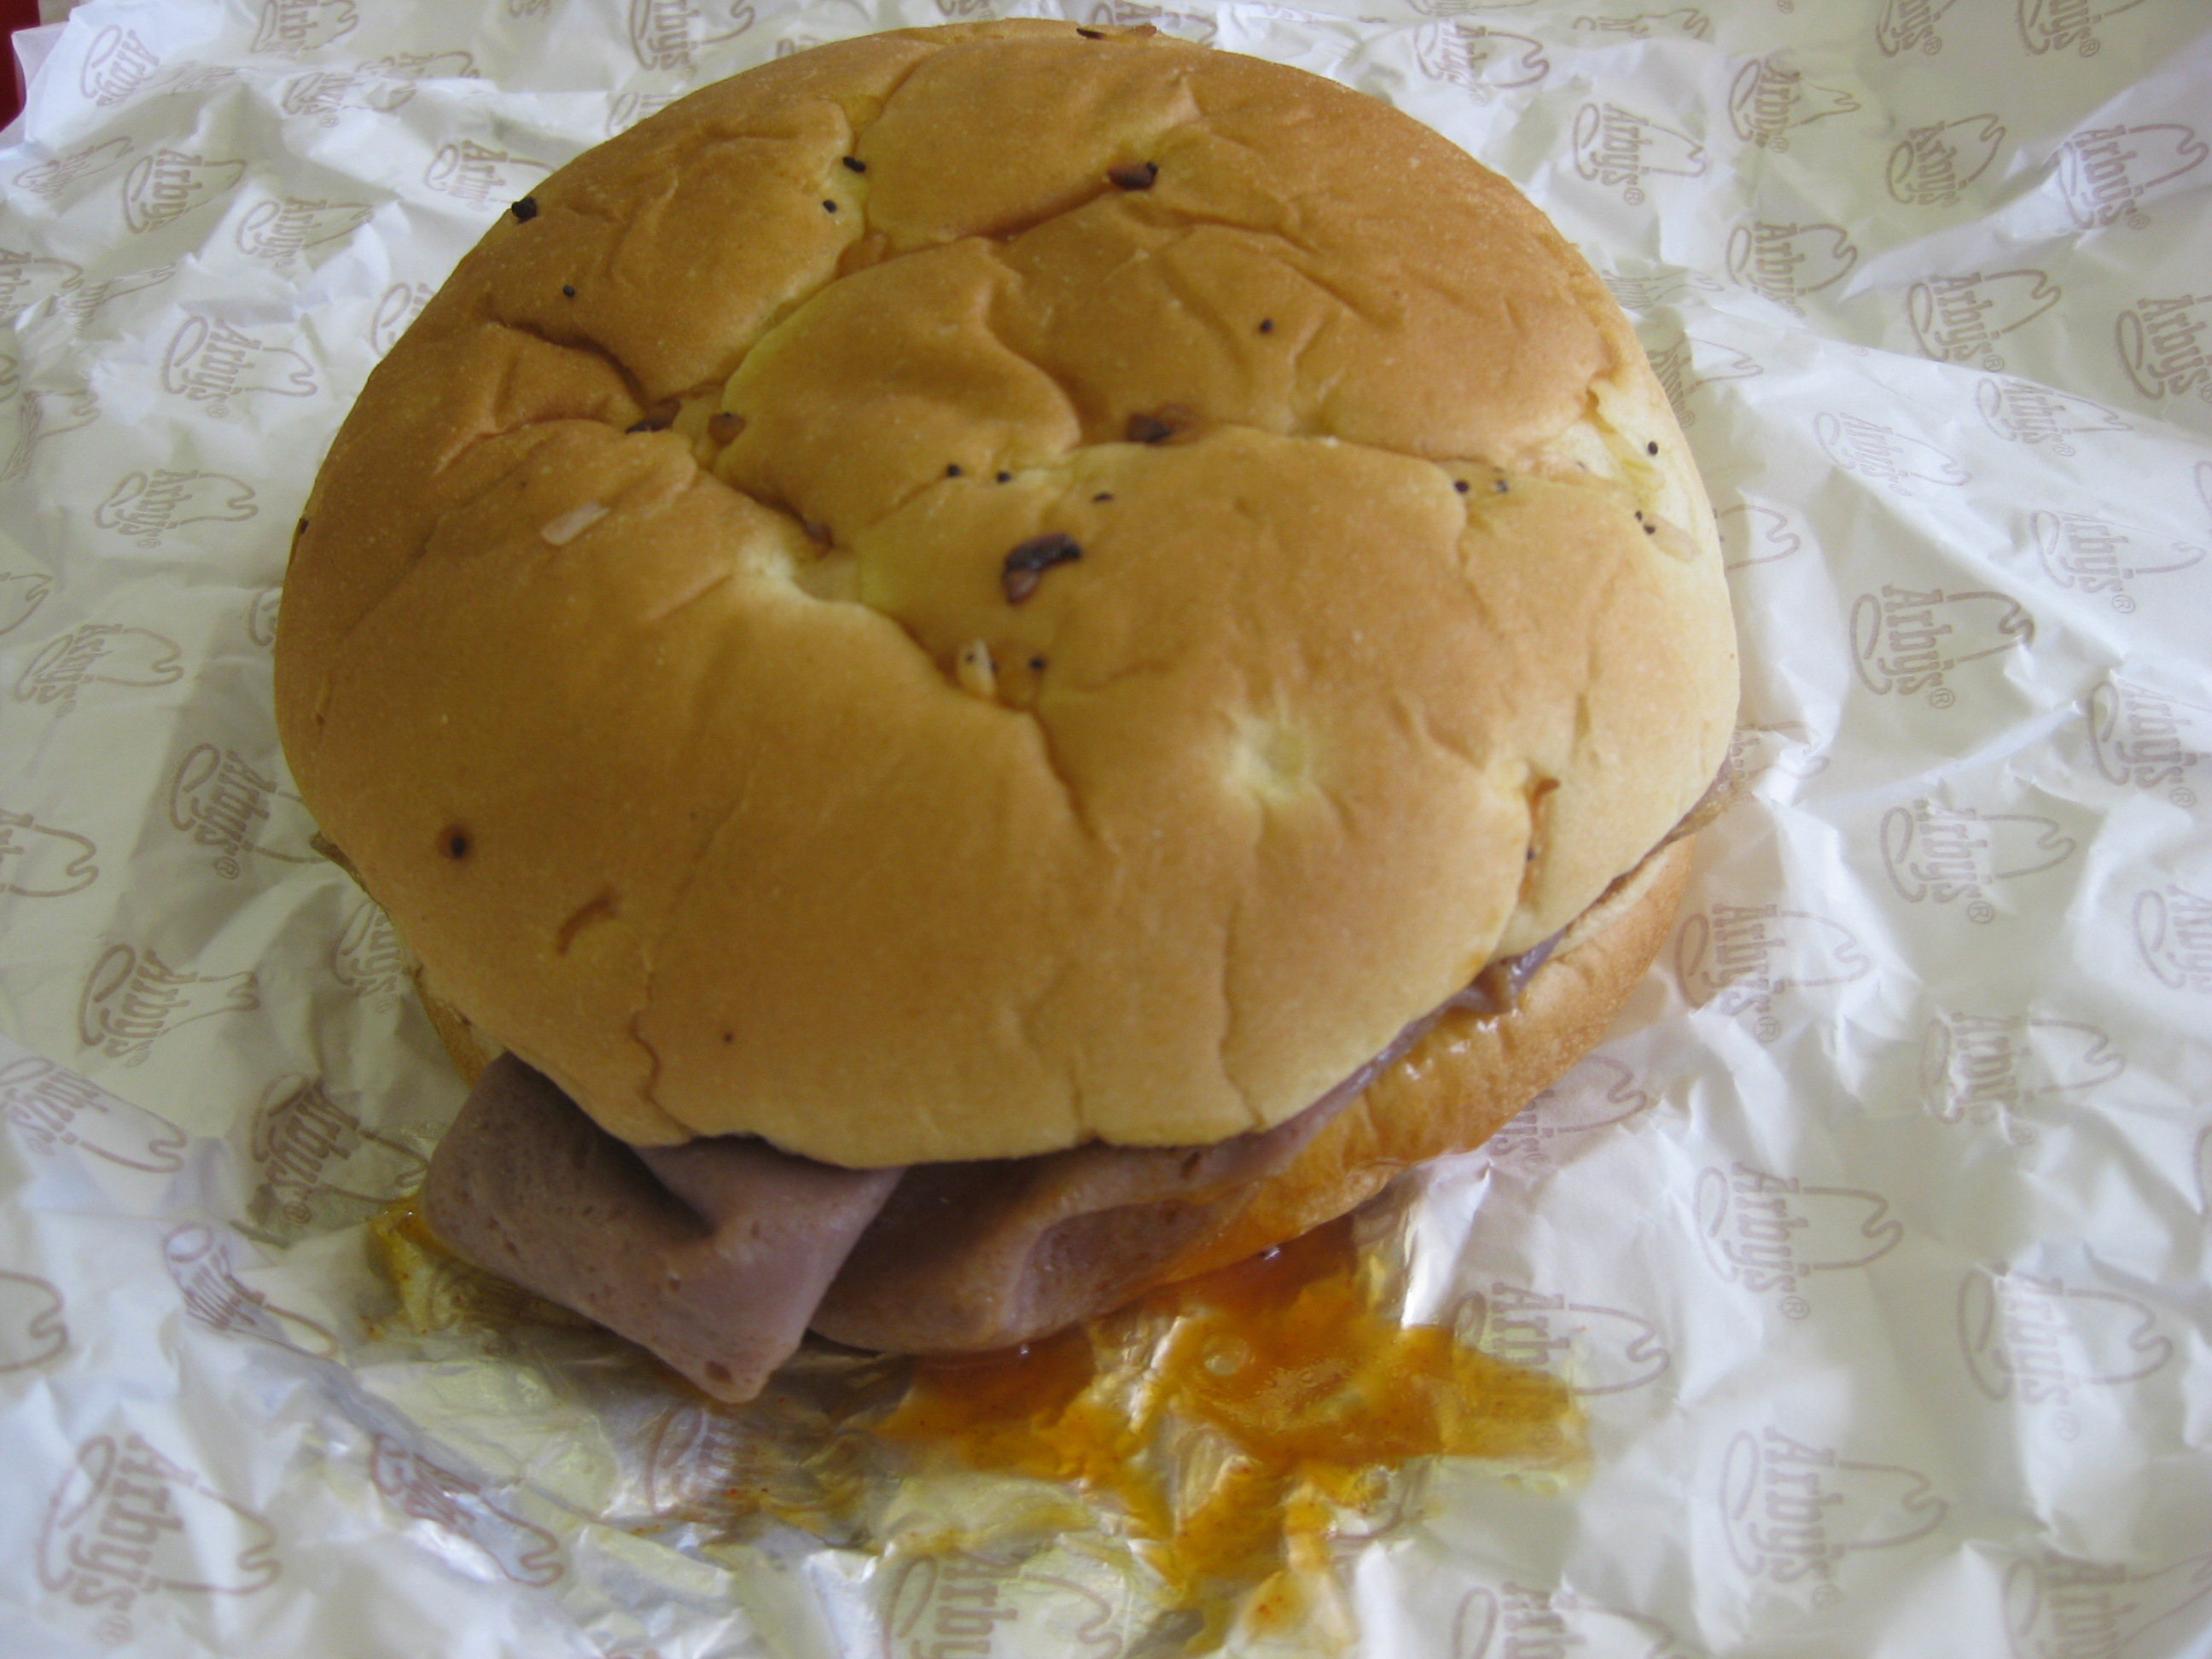burger: (249, 25, 1828, 1495)
